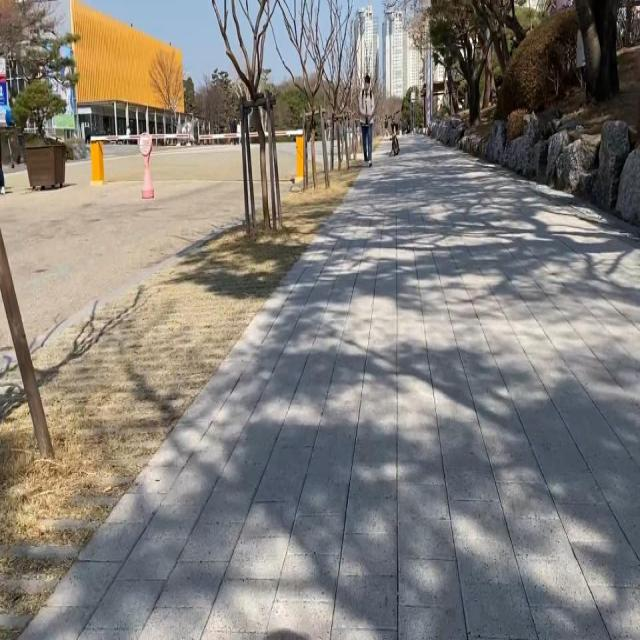sidewalk: (23, 137, 640, 639)
